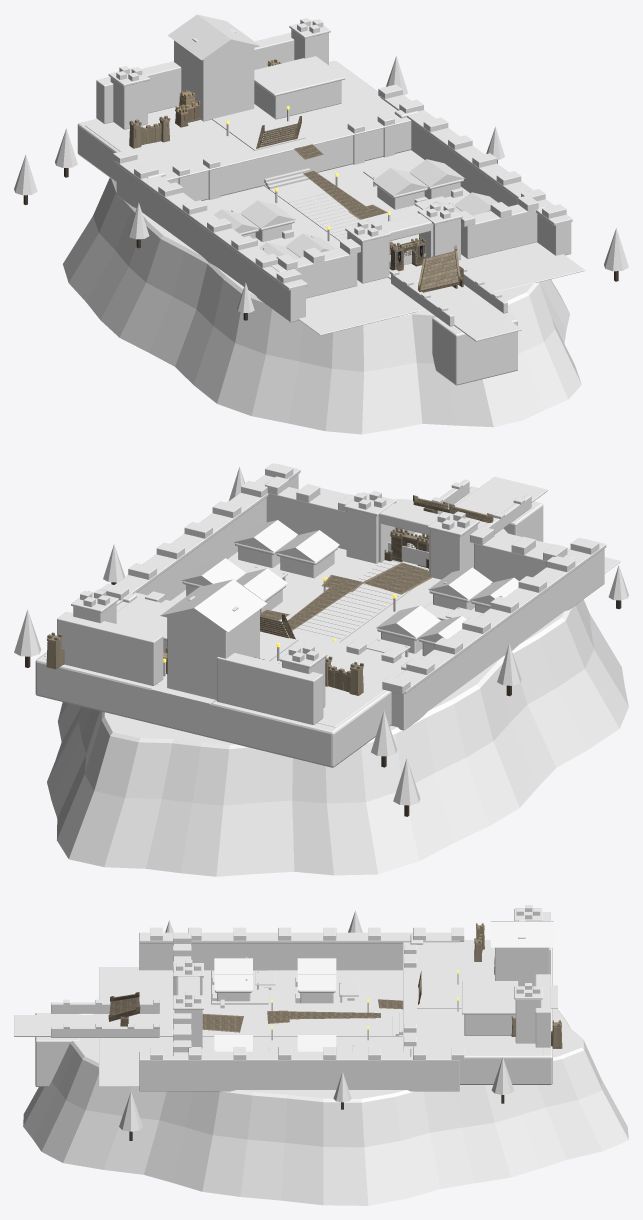
The model's file is ValoriaMeshOnlyWorld.glb.
The picture shows the model from 3 angles, top to bottom: view 1: azimuth 30°, elevation 25°; view 2: azimuth 150°, elevation 25°; view 3: azimuth 270°, elevation 25°; orthographic projection. The views are drawn at different scales.
Parts seen in each view (by area): view 1: One continuous rocky plateau, Lower enclosed courtyard, Upper enclosed citadel terrace, Upper plateau bedrock, Curtain continuity west, Upper stronghold keep mass, Bridge lower abutment, Curtain continuity east, Lower outer curtain right, Gate to stair main street, Keep commanding timber roof actual pitched roof, Upper curtain left (+24 smaller); view 2: One continuous rocky plateau, Upper plateau bedrock, Curtain continuity west, Upper curtain left, Upper curtain right, Lower enclosed courtyard, Upper stronghold keep mass, Upper enclosed citadel terrace, Gate to stair main street, Keep commanding timber roof actual pitched roof, Curtain continuity east, Lower outer curtain right (+27 smaller); view 3: One continuous rocky plateau, Lower enclosed courtyard, Curtain continuity east, Upper enclosed citadel terrace, Curtain continuity west, Wall cap east, Wall cap west, Gate to stair main street, Upper plateau bedrock, Upper stronghold keep mass, Command hall slate cap, Keep commanding timber roof actual pitched roof (+23 smaller).
Part boxes in pixels (x1,y1,x2,y2): One continuous rocky plateau: (63,178,581,434); Lower enclosed courtyard: (202,150,585,335); Upper enclosed citadel terrace: (85,64,410,180); Upper plateau bedrock: (77,61,411,201); Curtain continuity west: (116,165,305,322); Upper stronghold keep mass: (174,40,254,121); Bridge lower abutment: (432,304,517,385); Curtain continuity east: (411,121,571,255); Lower outer curtain right: (461,201,545,258); Gate to stair main street: (264,181,402,245); Keep commanding timber roof actual pitched roof: (168,14,259,60); Upper curtain left: (96,61,181,123); One continuous rocky plateau: (47,499,628,876); Upper plateau bedrock: (35,652,391,767); Curtain continuity west: (391,548,604,730); Upper curtain left: (217,653,323,724); Upper curtain right: (57,612,163,685); Lower enclosed courtyard: (171,488,620,659); Upper stronghold keep mass: (167,609,259,700); Upper enclosed citadel terrace: (44,592,411,727); Gate to stair main street: (293,561,415,642); Keep commanding timber roof actual pitched roof: (160,579,267,632); Curtain continuity east: (137,474,298,600); Lower outer curtain right: (265,482,346,549); One continuous rocky plateau: (23,1009,628,1205); Lower enclosed courtyard: (99,967,402,1086); Curtain continuity east: (139,1062,459,1091); Upper enclosed citadel terrace: (403,941,543,1055); Curtain continuity west: (139,943,402,970); Wall cap east: (139,1051,459,1062); Wall cap west: (139,932,459,943); Gate to stair main street: (202,1016,402,1036); Upper plateau bedrock: (460,940,552,1084); Upper stronghold keep mass: (495,947,549,986); Command hall slate cap: (462,981,518,1014); Keep commanding timber roof actual pitched roof: (490,921,553,947).
Size of the model in its own units: 66.72 by 32.4 by 95.92.
Materials: 36 (24 with a texture image).
